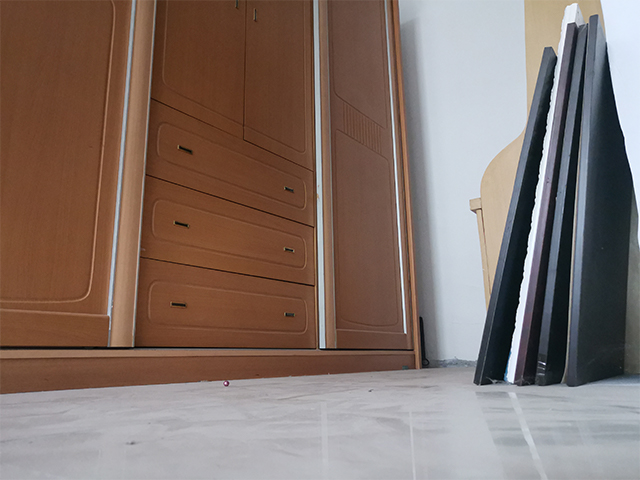cabinet: (1, 1, 423, 396)
